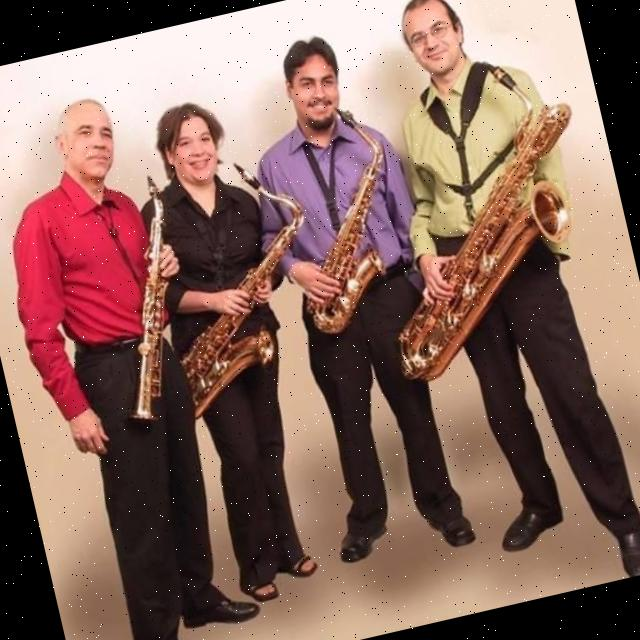saxophone: (335, 45, 627, 390), (130, 148, 349, 430), (264, 90, 425, 344)
